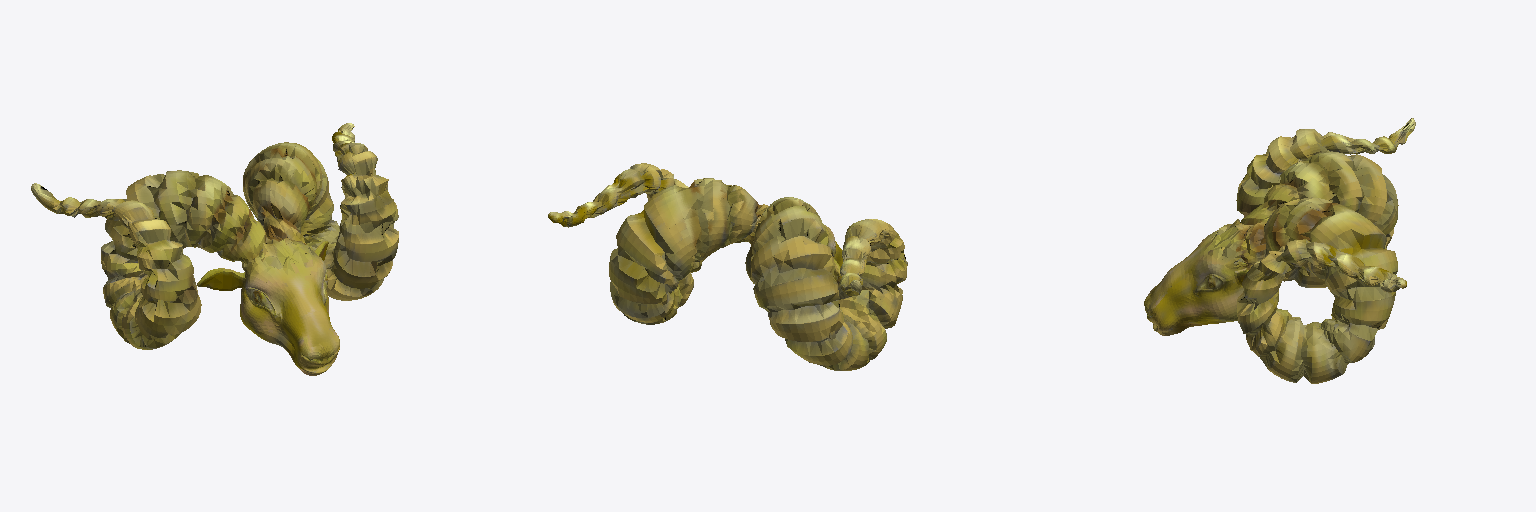
3 renders of one model, left to right at view 1: azimuth 30°, elevation 25°; view 2: azimuth 150°, elevation 25°; view 3: azimuth 270°, elevation 25°, orthographic.
Visible parts, largest first — view 1: final__Mesh; view 2: final__Mesh; view 3: final__Mesh.
Part boxes in pixels (left/top/right/bottom): final__Mesh: left=31, top=123, right=398, bottom=375; final__Mesh: left=548, top=163, right=907, bottom=370; final__Mesh: left=1144, top=118, right=1415, bottom=383.
Size of the model in its own units: 0.1922 by 0.0895 by 0.1425.
Materials: 1 (1 with a texture image).